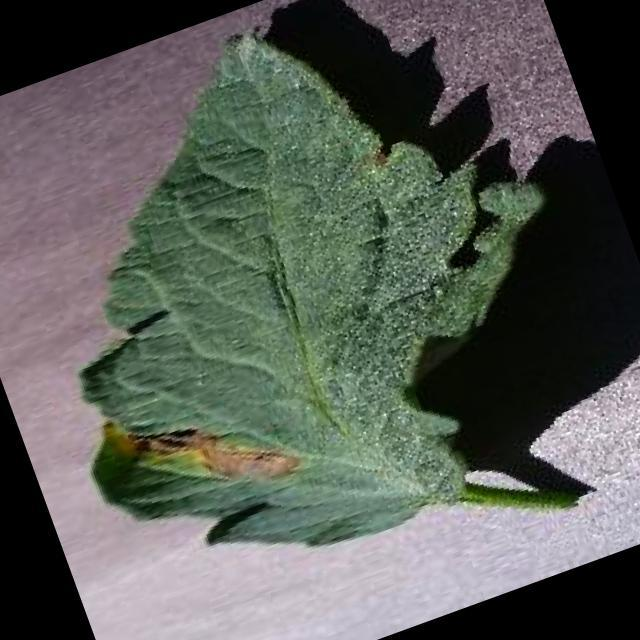Tomato Early blight leaf: (0, 0, 635, 619)
